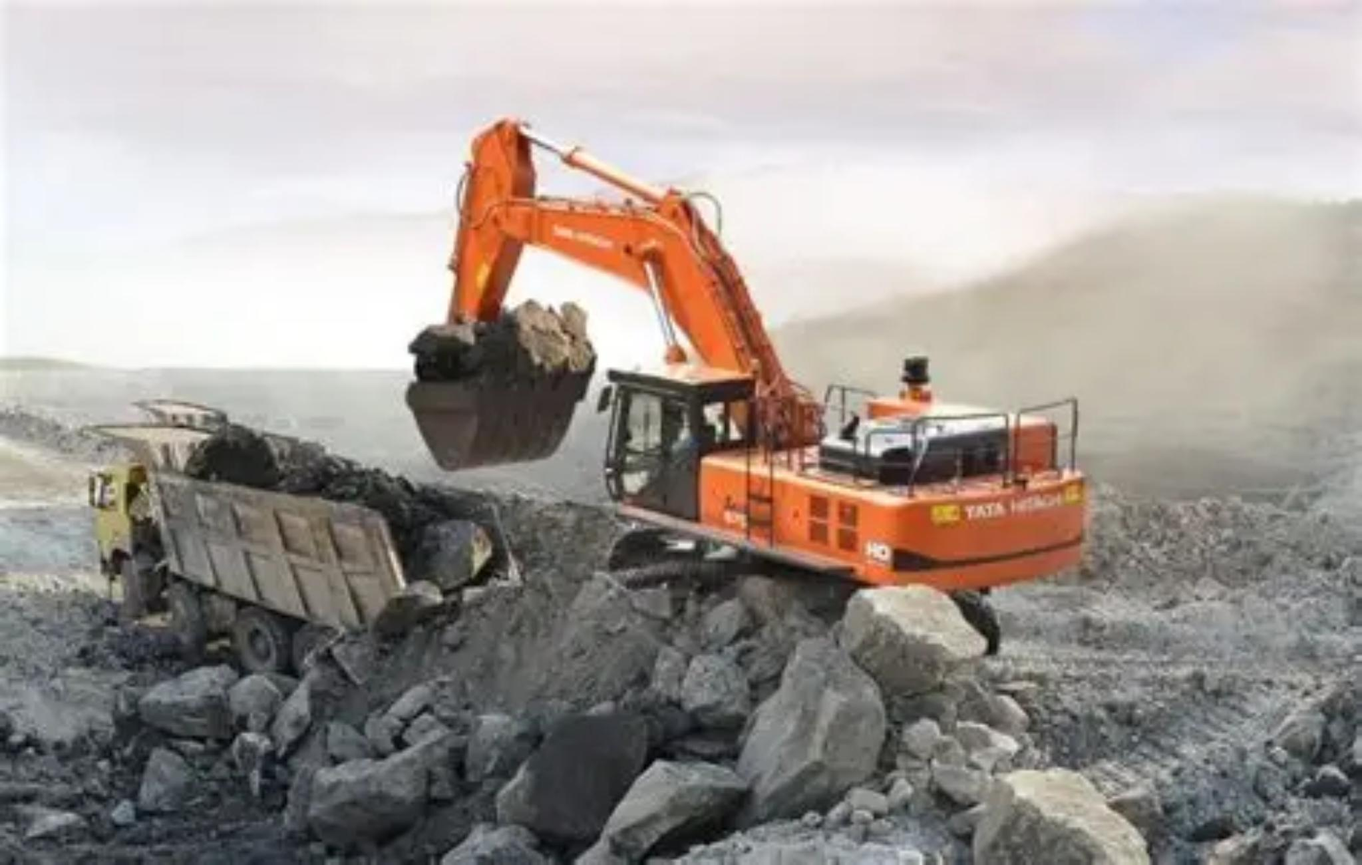excavator: (405, 118, 1081, 586)
truck: (86, 423, 402, 627)
